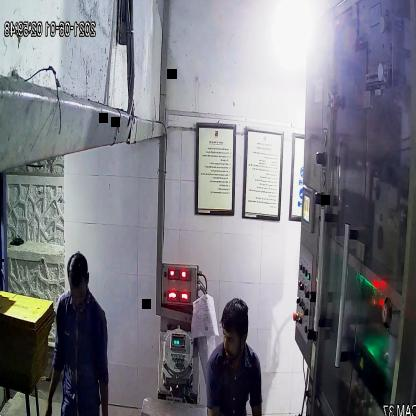no_goggles: (218, 328, 254, 348)
